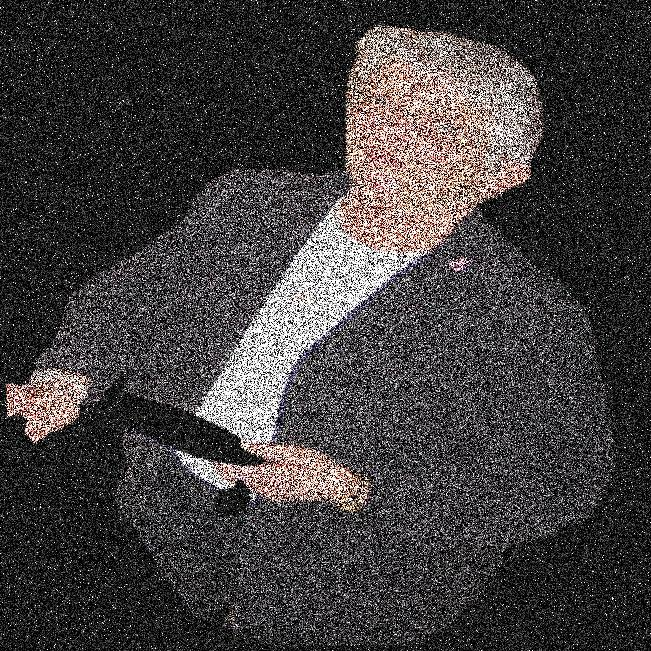Pessoa: (56, 0, 629, 650)
